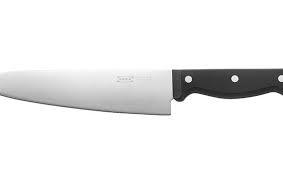Knife: (0, 66, 282, 115)
